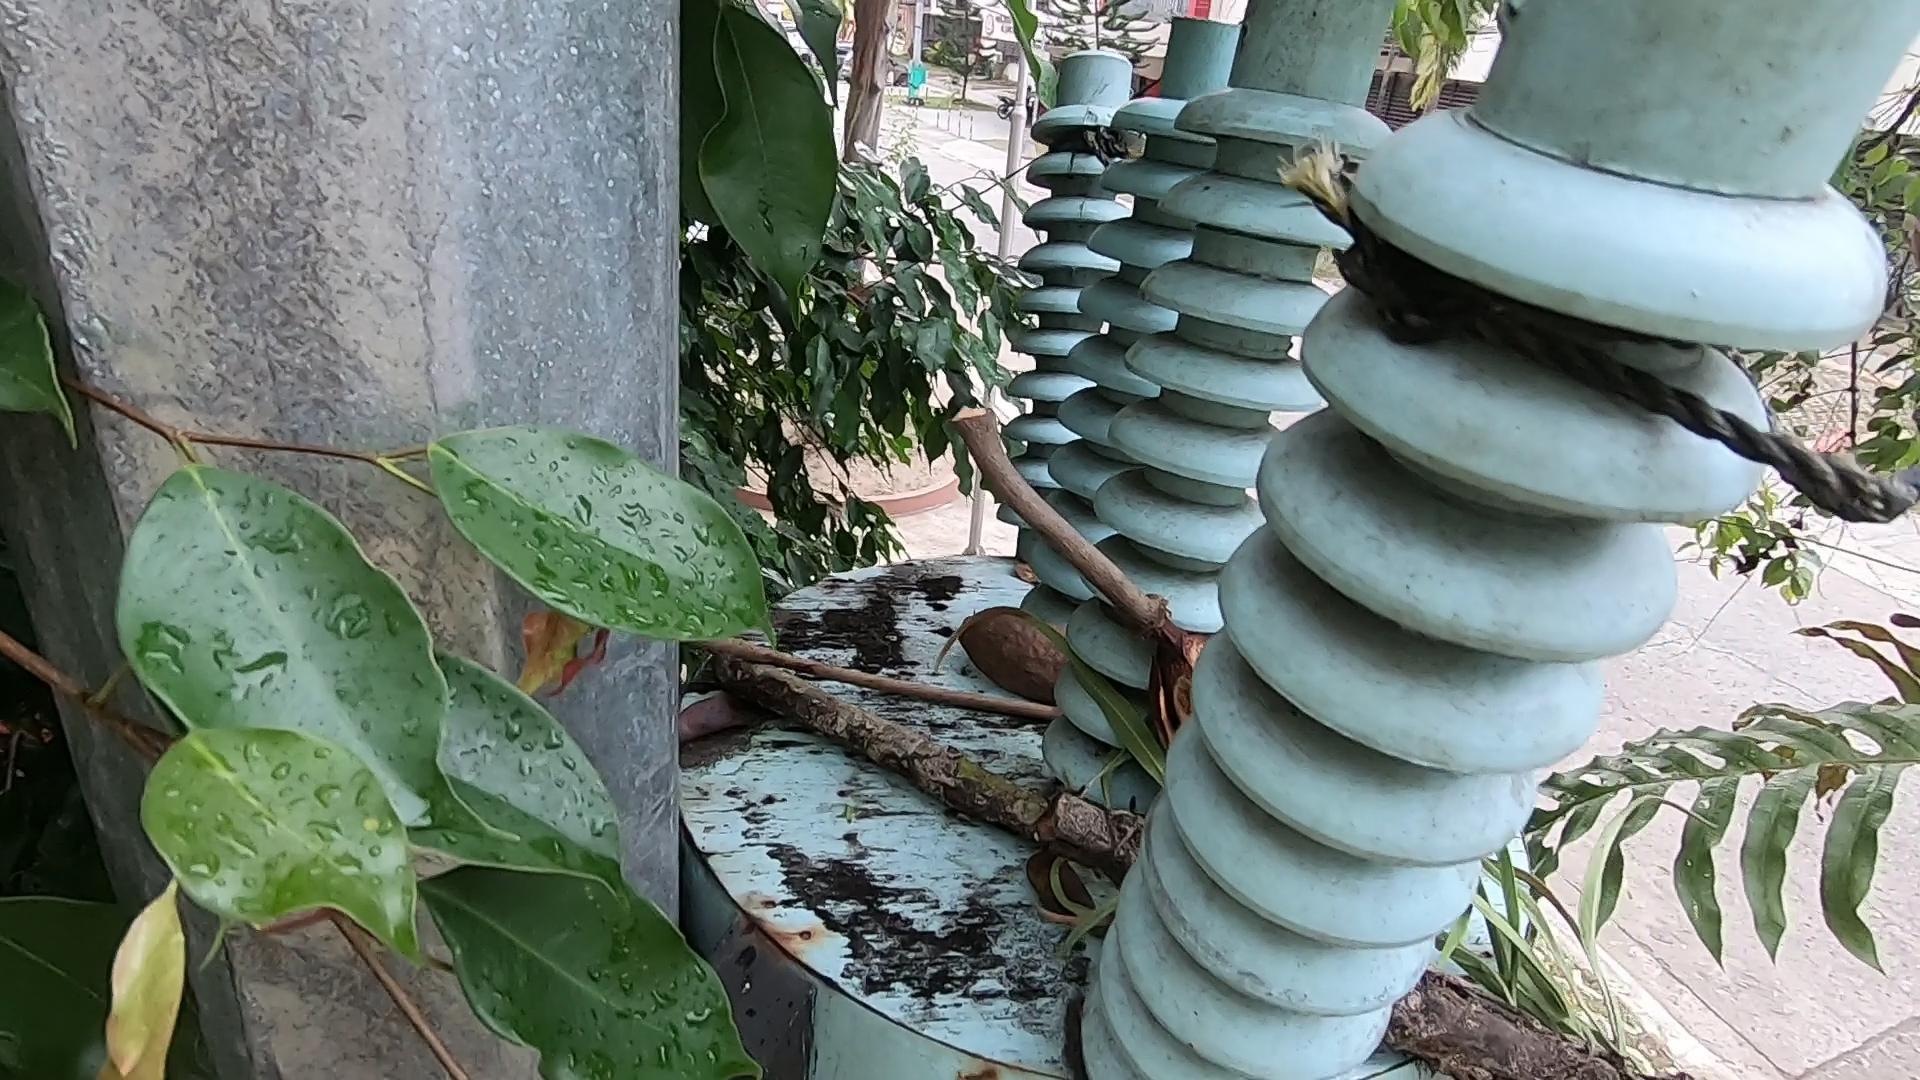branch with leaves: (713, 636, 1627, 1080)
leaf: (924, 459, 1096, 688), (1001, 833, 1106, 898)
mahogany fruit: (916, 517, 1060, 740), (1151, 578, 1270, 778)
tree branch: (967, 407, 1172, 630), (703, 632, 1077, 731)
